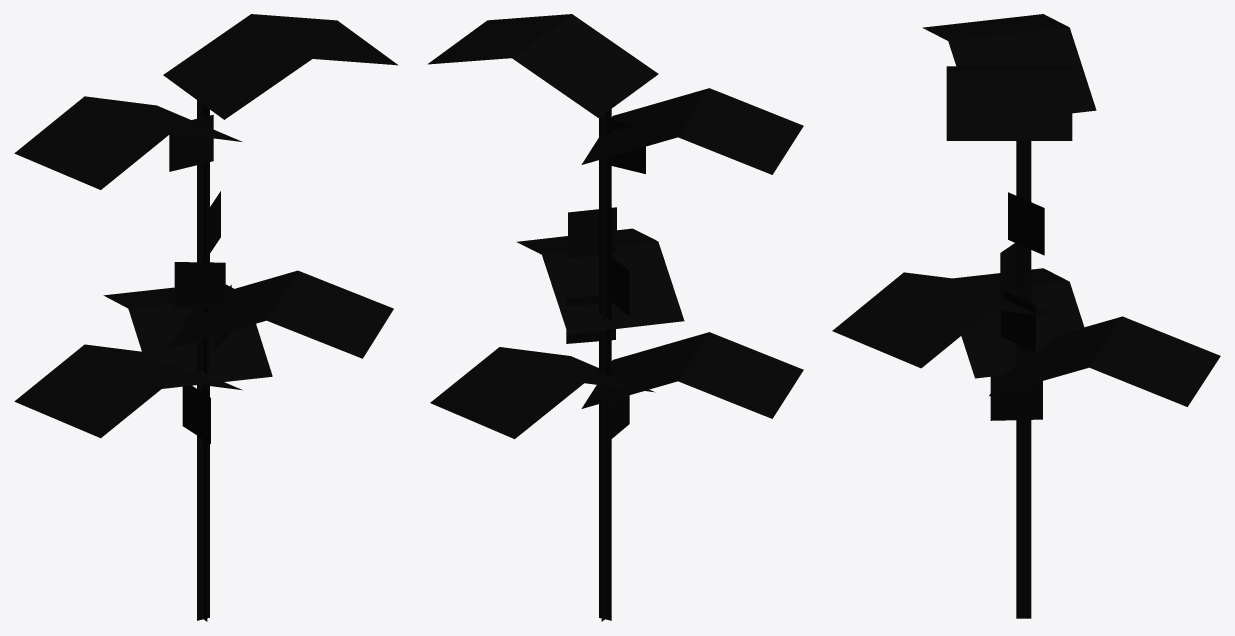
Rendered from FBX_Plant_A.fbx.
3 views of the same model, side by side, from view 1: azimuth 30°, elevation 25°; view 2: azimuth 150°, elevation 25°; view 3: azimuth 270°, elevation 25° (orthographic). The views are drawn at different scales.
Parts seen in each view (by area): view 1: Plant; view 2: Plant; view 3: Plant.
Boxes of the visible parts, x1,y1,x2,y2 form: Plant: [14, 14, 398, 621]; Plant: [427, 14, 803, 621]; Plant: [832, 14, 1220, 618].
Bounding box in the file's own units: 59.18 × 57.68 × 95.68.
